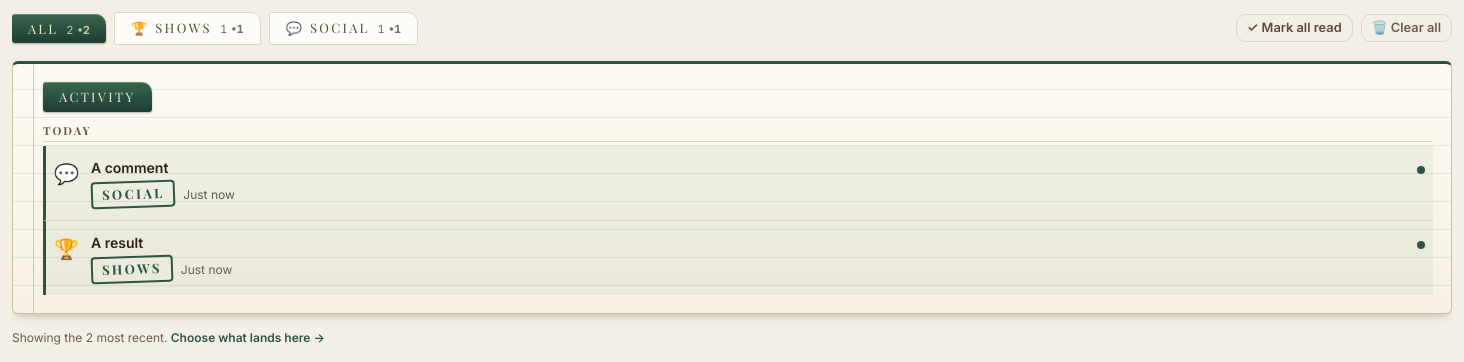
Test: NotificationList — empty states are honest › distinguishes an empty FILTER from an empty inbox
Click the button "🏆 Shows1•1" at (187, 28), box [114, 12, 261, 45]
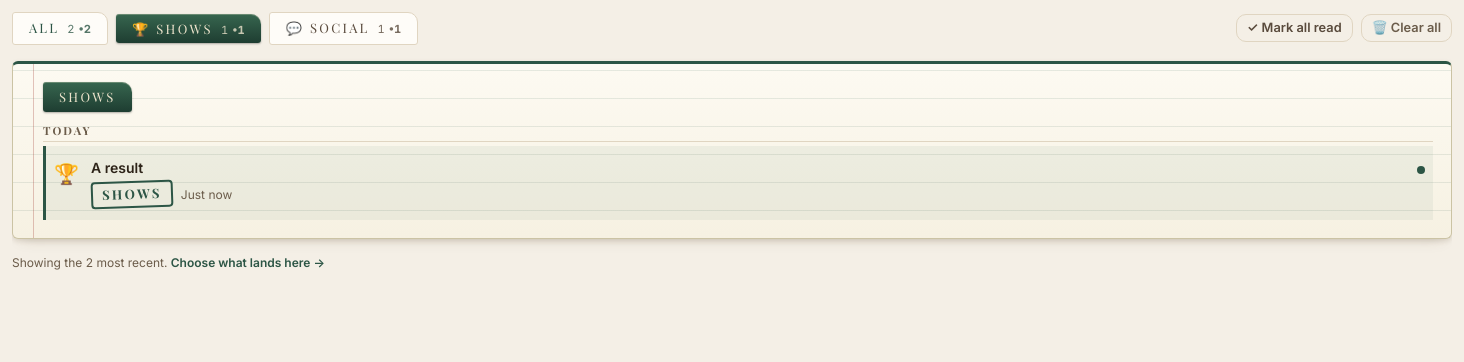
Check: the text "A result" is shown, box [91, 159, 143, 176]
Check: the link "A comment" is gone
